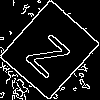Z: (24, 25, 79, 79)
